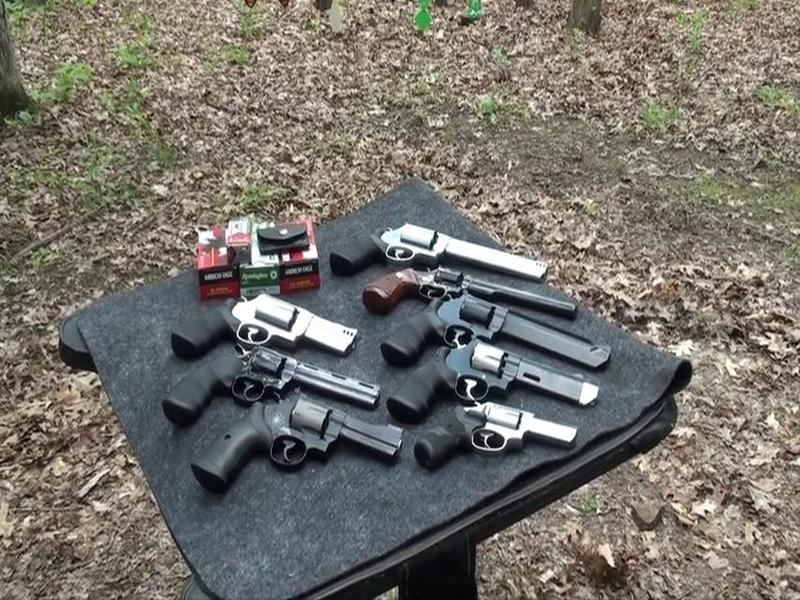Revolver: (379, 278, 627, 375), (174, 393, 408, 486), (154, 335, 377, 424), (150, 280, 361, 362), (316, 221, 562, 286), (411, 398, 565, 473)
